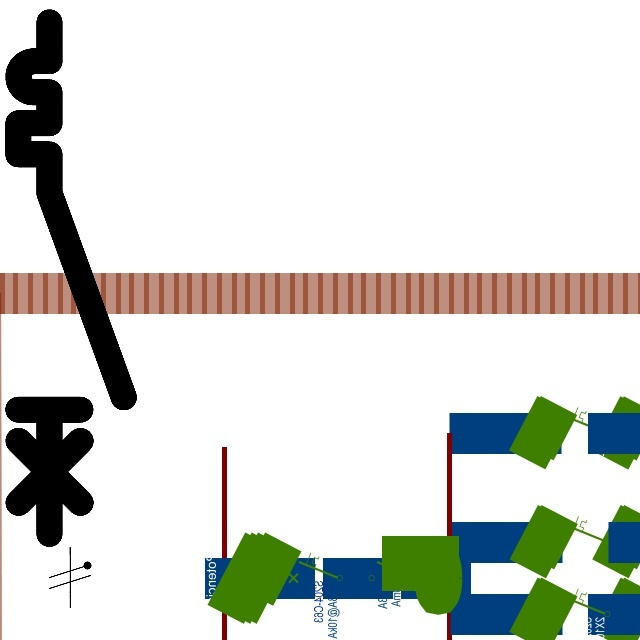interruptor_termomagnetico: (5, 9, 137, 547)
